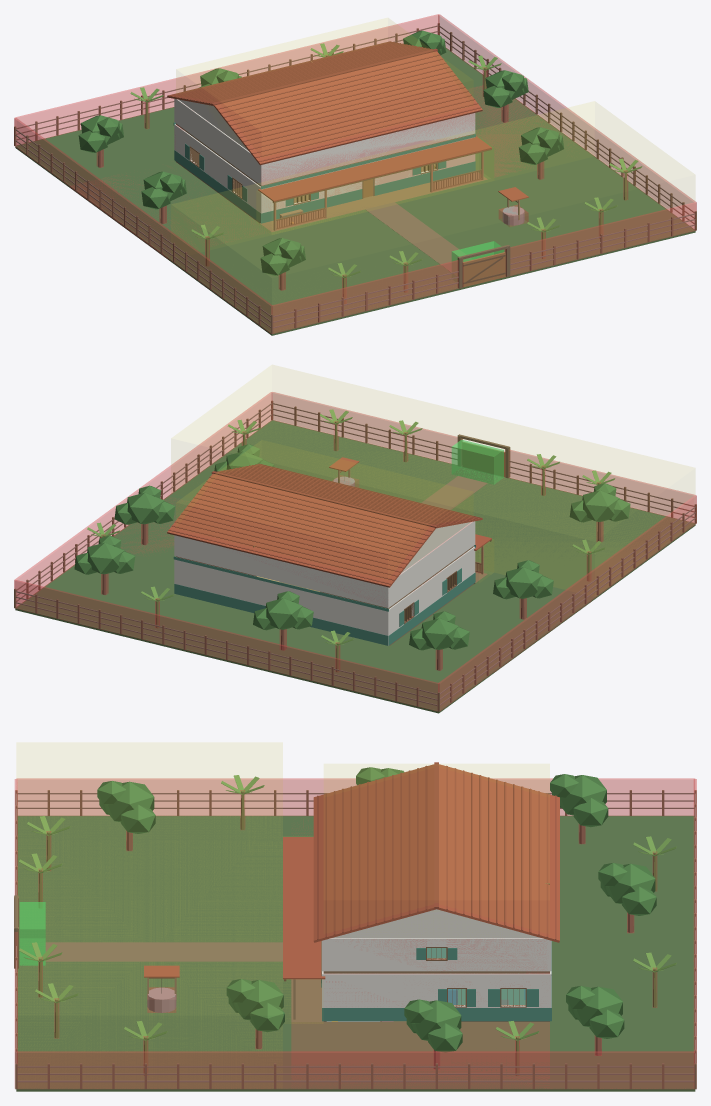
File: finca.glb
3 renders of one model, top to bottom at view 1: azimuth 30°, elevation 25°; view 2: azimuth 150°, elevation 25°; view 3: azimuth 270°, elevation 25°, orthographic. The views are drawn at different scales.
Parts seen in each view (by area): view 1: finca_terreno, finca_techo, ZONE_patio, finca_muro, finca_teja2, COL_cerca_02, COL_cerca_01, finca_hoja, ZONE_atico, COL_cerca_03, finca_cerca, COL_cerca_04 (+12 smaller); view 2: finca_terreno, finca_techo, ZONE_patio, finca_muro, COL_cerca_01, finca_teja2, finca_hoja, COL_cerca_02, finca_cerca, ZONE_atico, COL_cerca_03, finca_tronco (+8 smaller); view 3: finca_terreno, finca_techo, COL_cerca_03, finca_muro, finca_hoja, COL_cerca_02, finca_teja2, ZONE_patio, finca_cerca, COL_terreno_04, finca_tierra, finca_tronco (+9 smaller).
Boxes of the visible parts, x1,y1,x2,y2 form: finca_terreno: (15, 48, 695, 335); finca_techo: (167, 42, 528, 201); ZONE_patio: (171, 102, 694, 251); finca_muro: (174, 99, 475, 213); finca_teja2: (168, 41, 481, 161); COL_cerca_02: (14, 118, 272, 333); COL_cerca_01: (15, 14, 439, 145); finca_hoja: (78, 30, 564, 275); ZONE_atico: (176, 18, 472, 103); COL_cerca_03: (438, 14, 696, 229); finca_cerca: (15, 25, 695, 328); COL_cerca_04: (271, 260, 458, 333); finca_terreno: (15, 420, 695, 713); finca_techo: (167, 457, 491, 587); ZONE_patio: (171, 365, 694, 588); finca_muro: (174, 521, 475, 645); COL_cerca_01: (15, 580, 439, 711); finca_teja2: (168, 463, 481, 584); finca_hoja: (74, 444, 630, 650); COL_cerca_02: (438, 495, 696, 710); finca_cerca: (15, 403, 695, 705); ZONE_atico: (176, 440, 472, 526); COL_cerca_03: (14, 392, 272, 607); finca_tronco: (14, 401, 696, 711); finca_terreno: (16, 815, 695, 1091); finca_techo: (144, 764, 559, 979); COL_cerca_03: (16, 1051, 694, 1088); finca_muro: (322, 909, 551, 1007); finca_hoja: (97, 767, 656, 1052); COL_cerca_02: (16, 778, 694, 815); finca_teja2: (317, 762, 556, 939); ZONE_patio: (17, 743, 282, 1040); finca_cerca: (16, 793, 695, 1082); COL_terreno_04: (291, 1022, 549, 1051); finca_tierra: (45, 942, 282, 961); finca_tronco: (14, 790, 696, 1089).
Bounding box in the file's own units: 40.2 × 11.4 × 42.25.
